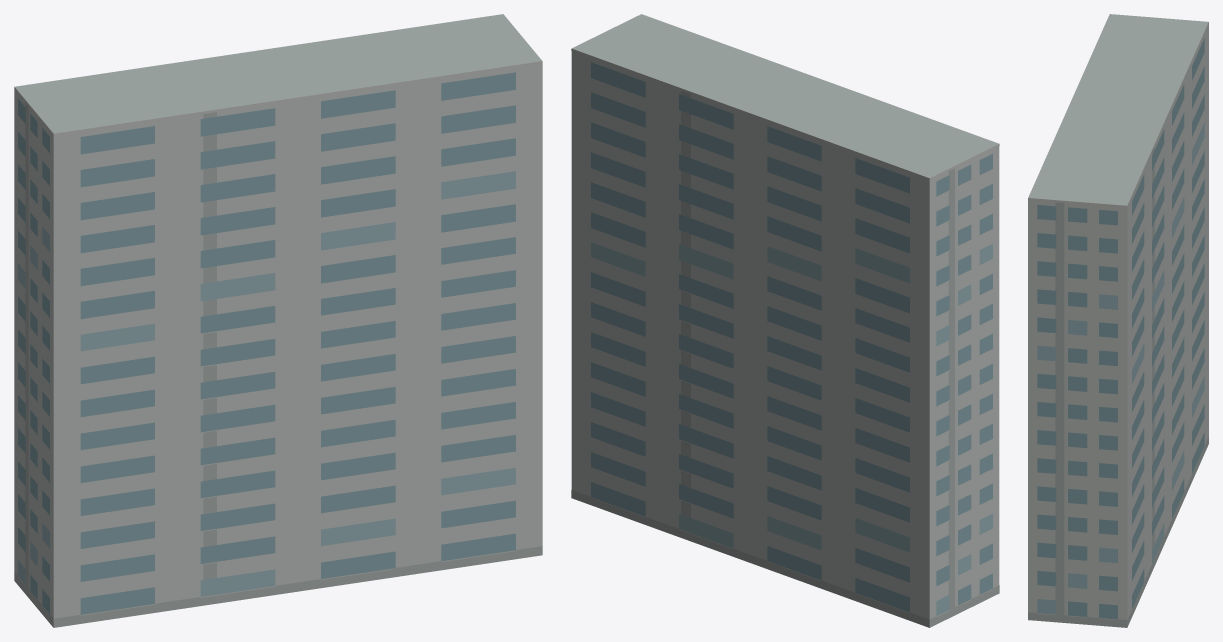
Rendered from residential-f934e720-d486-4084-ba1d-9184c81a76fd.glb.
3 renders of one model, left to right at view 1: azimuth 30°, elevation 25°; view 2: azimuth 150°, elevation 25°; view 3: azimuth 270°, elevation 25°, orthographic. The views are drawn at different scales.
Parts seen in each view (by area): view 1: residential-f934e720-d486-4084-ba1d-9184c81a76fd.tmp; view 2: residential-f934e720-d486-4084-ba1d-9184c81a76fd.tmp; view 3: residential-f934e720-d486-4084-ba1d-9184c81a76fd.tmp.
Boxes of the visible parts, bbox=[...] form: residential-f934e720-d486-4084-ba1d-9184c81a76fd.tmp: bbox=[14, 14, 542, 627]; residential-f934e720-d486-4084-ba1d-9184c81a76fd.tmp: bbox=[571, 14, 999, 627]; residential-f934e720-d486-4084-ba1d-9184c81a76fd.tmp: bbox=[1028, 14, 1208, 627].
Size of the model in its own units: 44.58 by 45.75 by 17.77.
